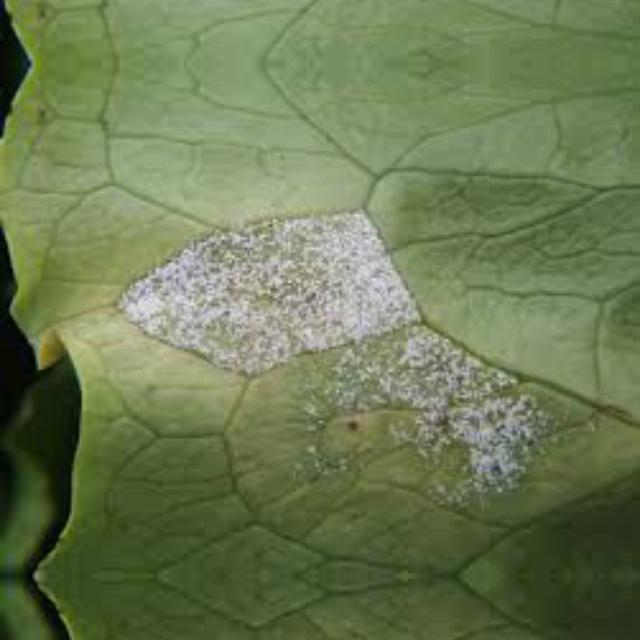Downy_mildew: (56, 111, 570, 563), (56, 588, 570, 640), (56, 0, 570, 15)
